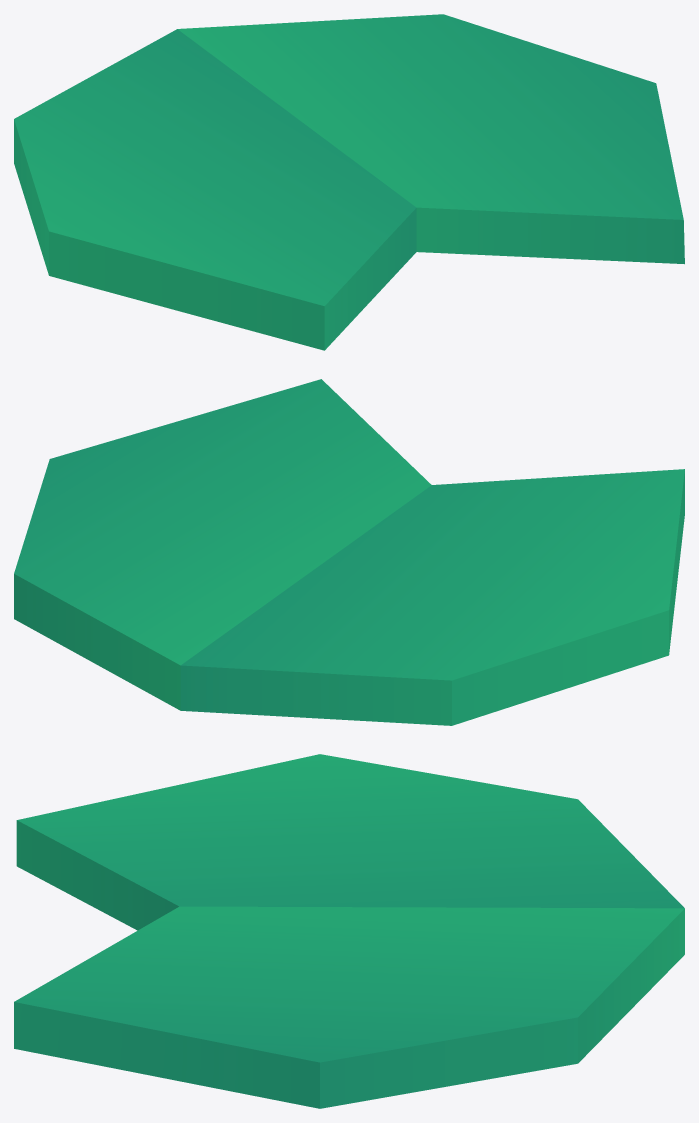
Rendered from Lilypad.glb.
3 views of the same model, one above another, from view 1: azimuth 30°, elevation 25°; view 2: azimuth 150°, elevation 25°; view 3: azimuth 270°, elevation 25° (orthographic). The views are drawn at different scales.
Visible parts, largest first — view 1: Lilypad; view 2: Lilypad; view 3: Lilypad.
Boxes of the visible parts, left/top/right/bottom form: Lilypad: left=14, top=14, right=684, bottom=350; Lilypad: left=14, top=379, right=684, bottom=725; Lilypad: left=14, top=754, right=684, bottom=1108.
Bounding box in the file's own units: 0.89 × 0.0623 × 0.8181.
1 material, 1 textured.
